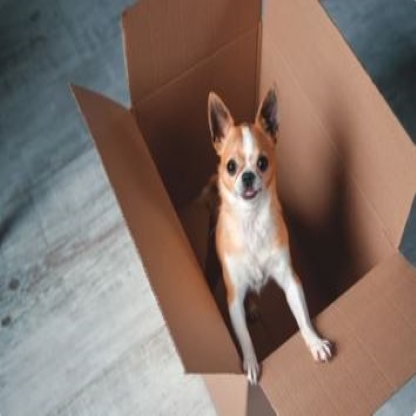chihuahua: (201, 80, 335, 385)
